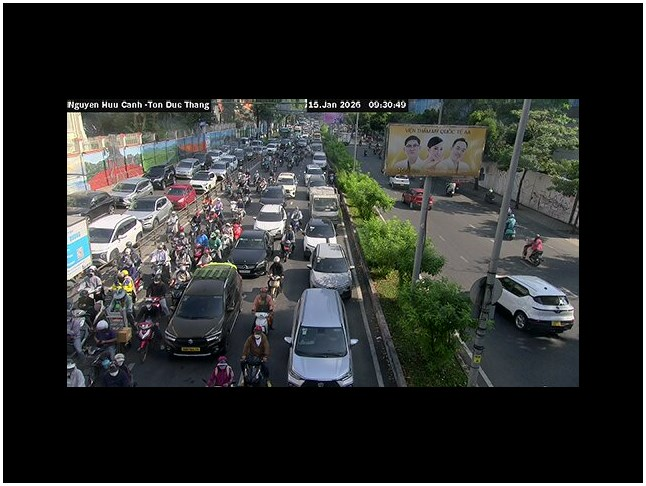car: (162, 260, 243, 358), (284, 286, 353, 386), (470, 272, 577, 334), (308, 242, 354, 298), (228, 229, 276, 278), (253, 203, 290, 250), (302, 218, 337, 262), (109, 177, 153, 210)
motorbike: (522, 235, 545, 267)
